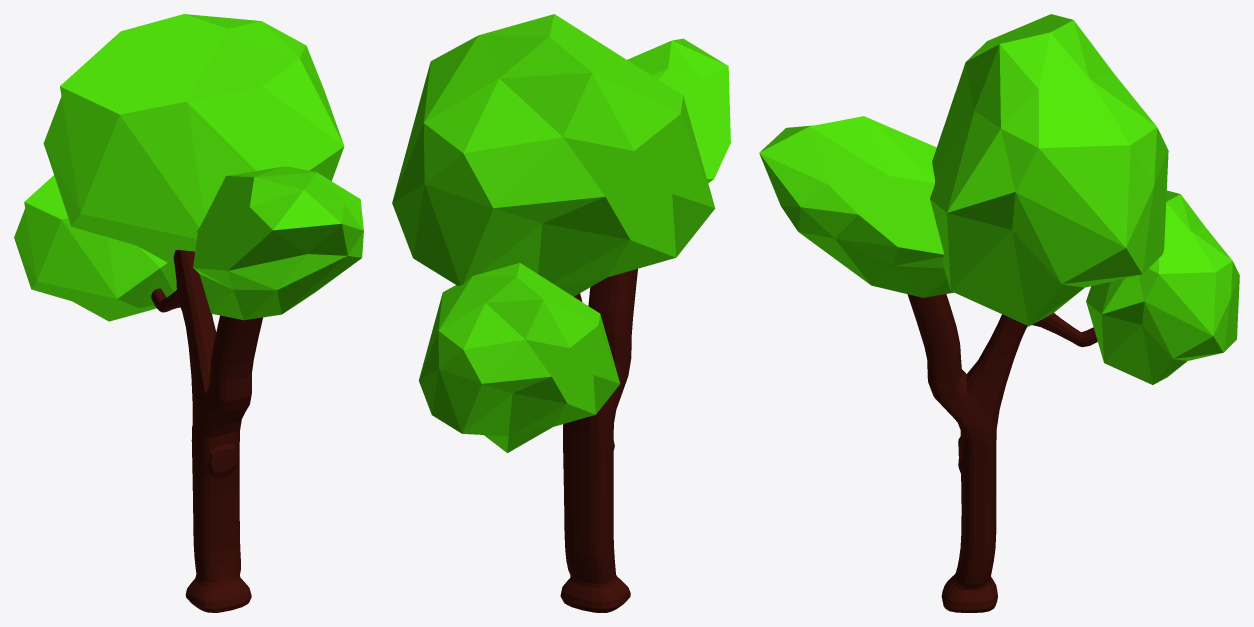
File: tree_3.fbx
The picture shows the model from 3 angles, left to right: view 1: azimuth 30°, elevation 25°; view 2: azimuth 150°, elevation 25°; view 3: azimuth 270°, elevation 25°; orthographic projection. The views are drawn at different scales.
Visible parts, largest first — view 1: Icosphere.015, Icosphere.012, Cube.005, Icosphere.011; view 2: Icosphere.015, Icosphere.011, Cube.005, Icosphere.012; view 3: Icosphere.015, Icosphere.012, Icosphere.011, Cube.005.
Boxes of the visible parts, x1,y1,x2,y2 form: Icosphere.015: [43, 14, 344, 266]; Icosphere.012: [193, 166, 363, 320]; Cube.005: [151, 250, 262, 612]; Icosphere.011: [14, 175, 176, 321]; Icosphere.015: [392, 14, 715, 296]; Icosphere.011: [418, 263, 620, 452]; Cube.005: [560, 269, 637, 612]; Icosphere.012: [627, 38, 730, 182]; Icosphere.015: [930, 14, 1168, 326]; Icosphere.012: [759, 116, 953, 297]; Icosphere.011: [1086, 190, 1239, 384]; Cube.005: [907, 294, 1097, 612].
Size of the model in its own units: 996 by 2098 by 1595.
